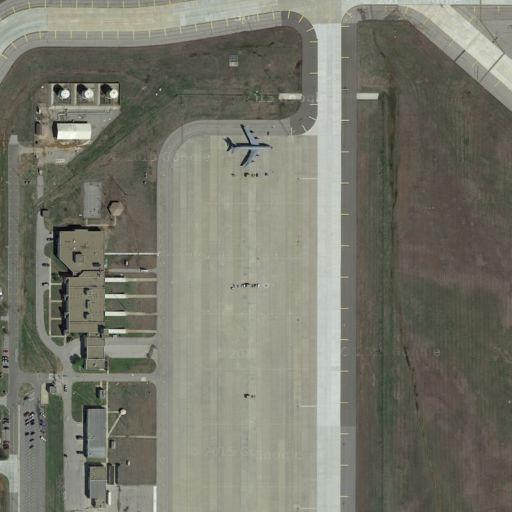KC-135: (223, 122, 278, 171)
